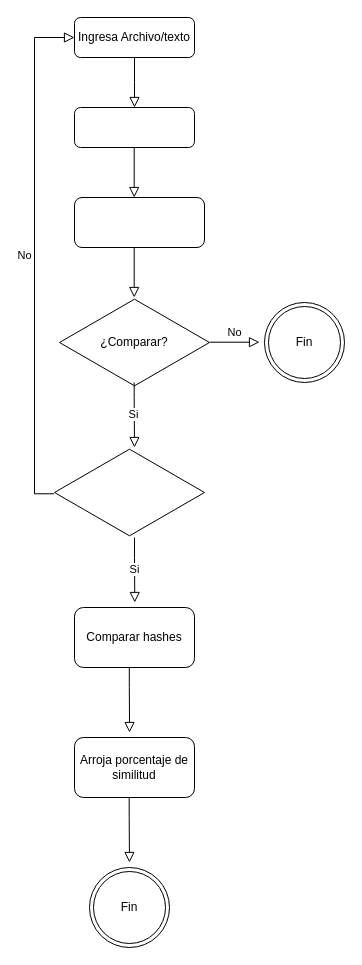
This 362x965 diagram has some shape labels left out. The centre of each missing label's shape, as x and y in pixels:
Hasheo de archivo/texto: the point at 134,127
Salida de Hash y lista de hash parciales: the point at 139,222
¿Existe archivo?: the point at 129,492
